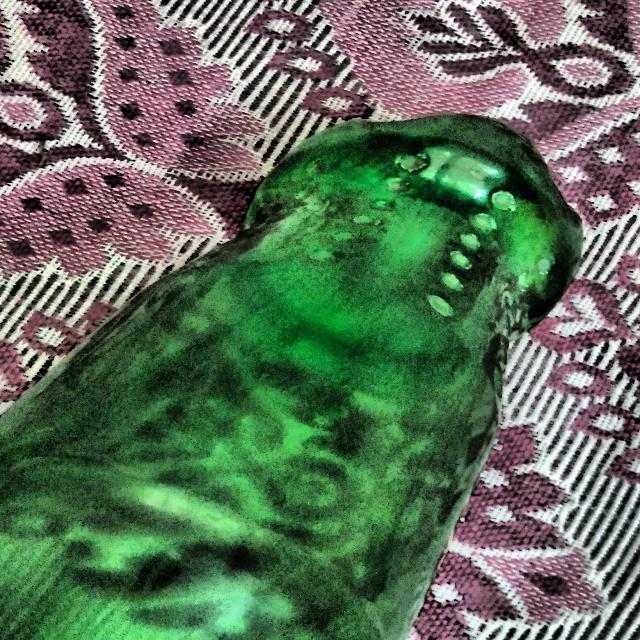plastic: (0, 53, 640, 640)
